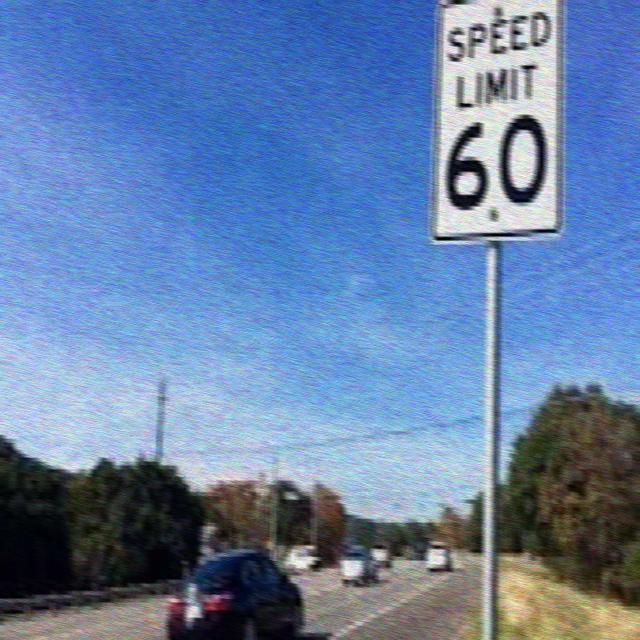speedLimit60: (435, 6, 558, 234)
